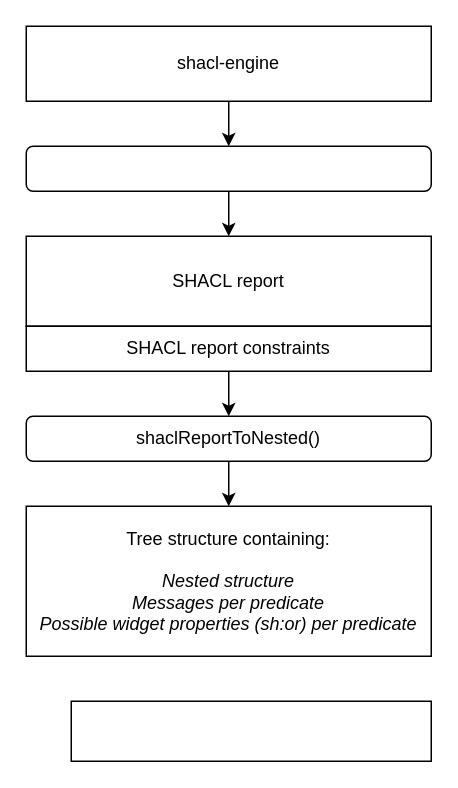
The diagram is 458 pixels wide and 788 high, and some of its shapes have lost their labels. Each missing label, with the centre of its shape:
"Per widget: class including a custom Element" goes at (250,730).
"validate()" goes at (228,168).
